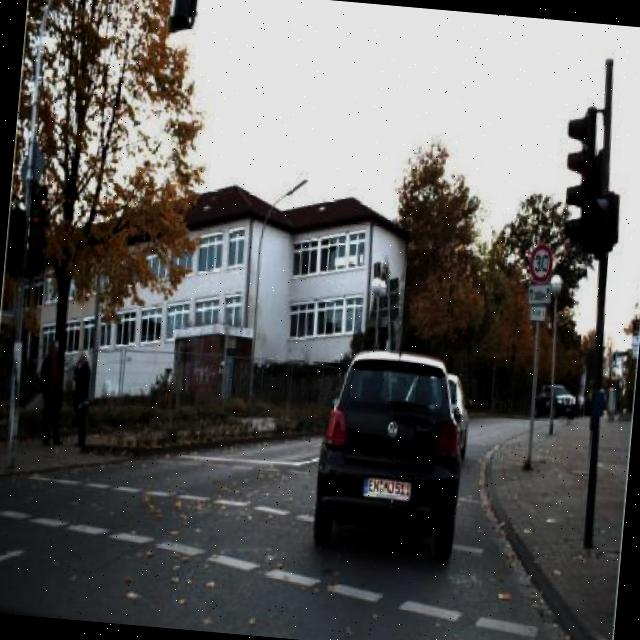Ograniczenie predkosci do 30: (526, 240, 556, 284)
